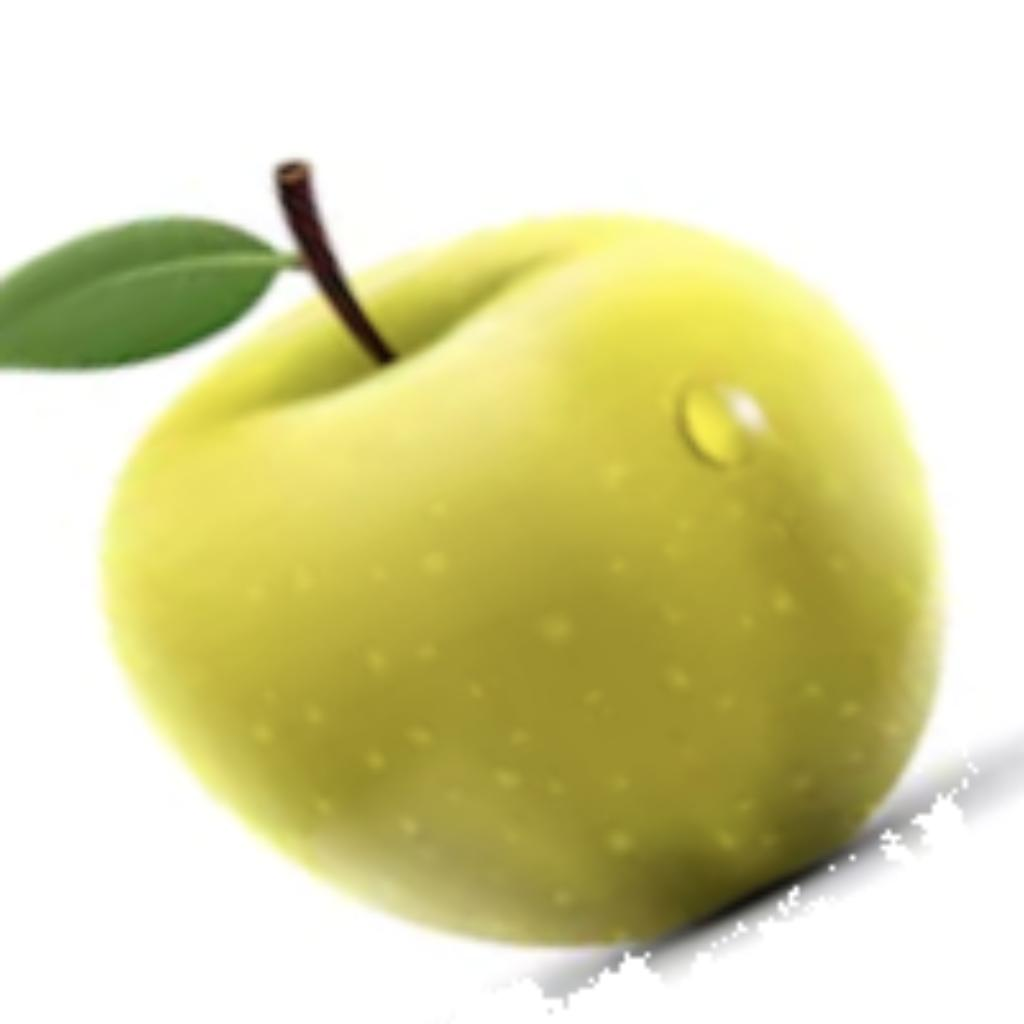apple: (0, 148, 1019, 1014)
